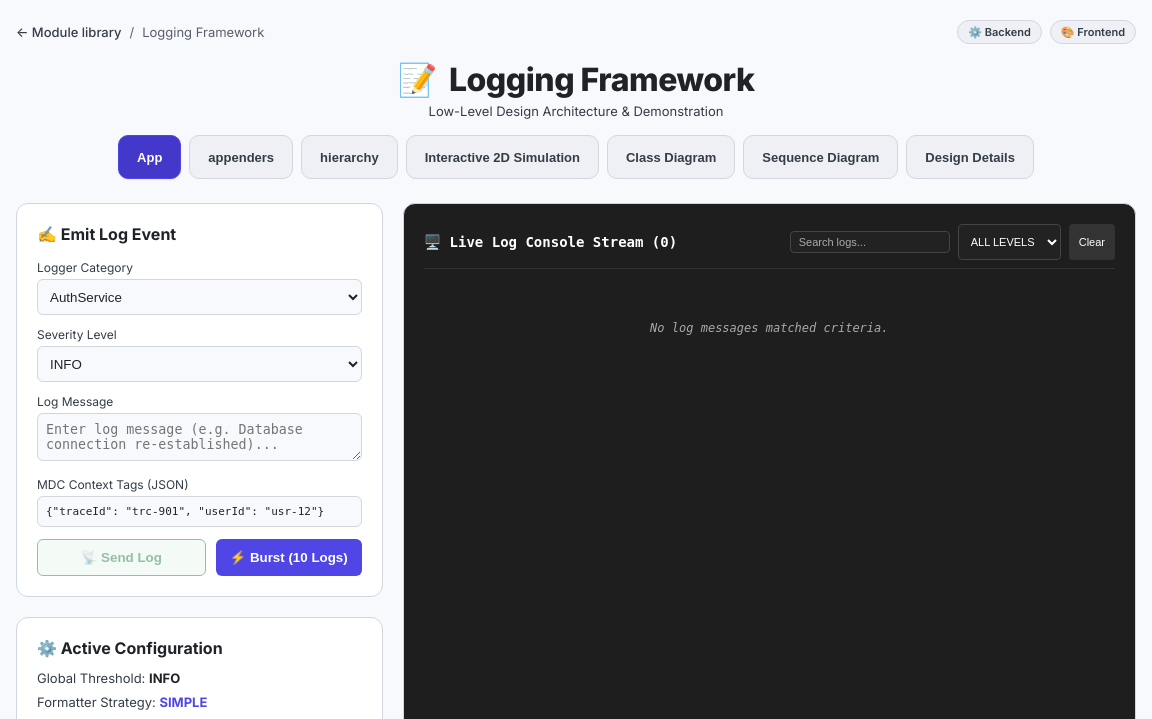
Test: Logging workspace › rejects invalid MDC context [] without sending a log
Replace the text in the text box labelled "Log Message" with "Keep my message" at (199, 437), box [37,413,362,461]
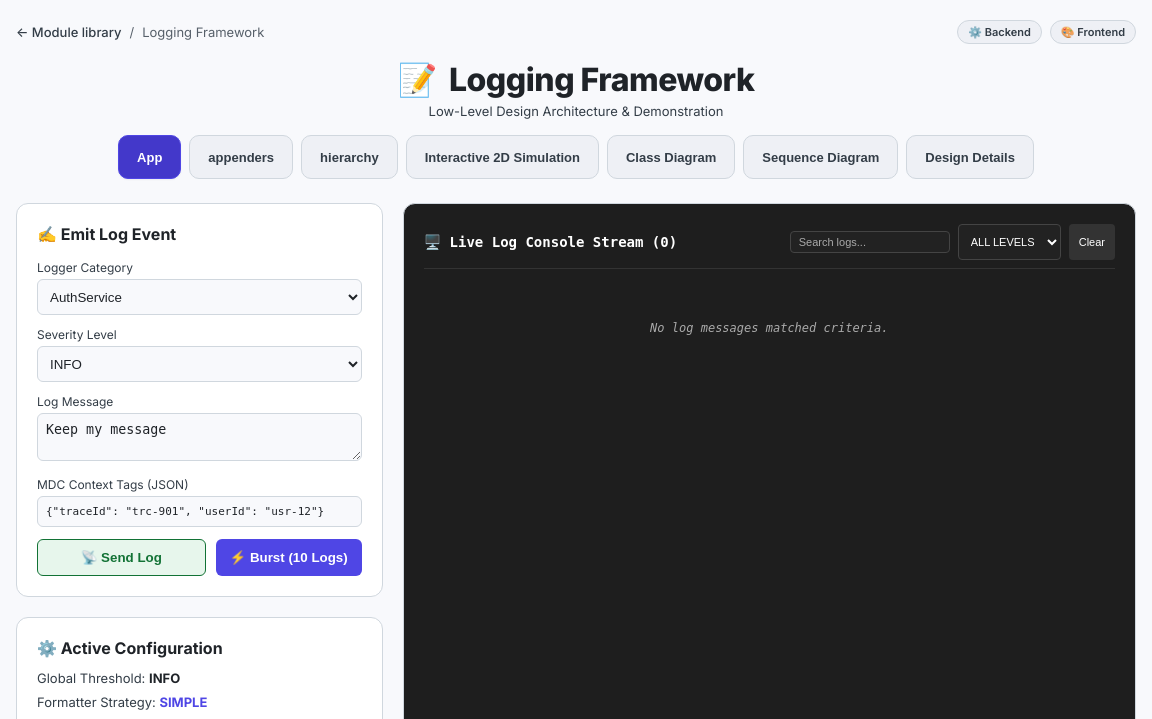
Replace the text in the field labelled "MDC Context Tags (JSON)" with "[]" at (199, 512), box [37,496,362,527]
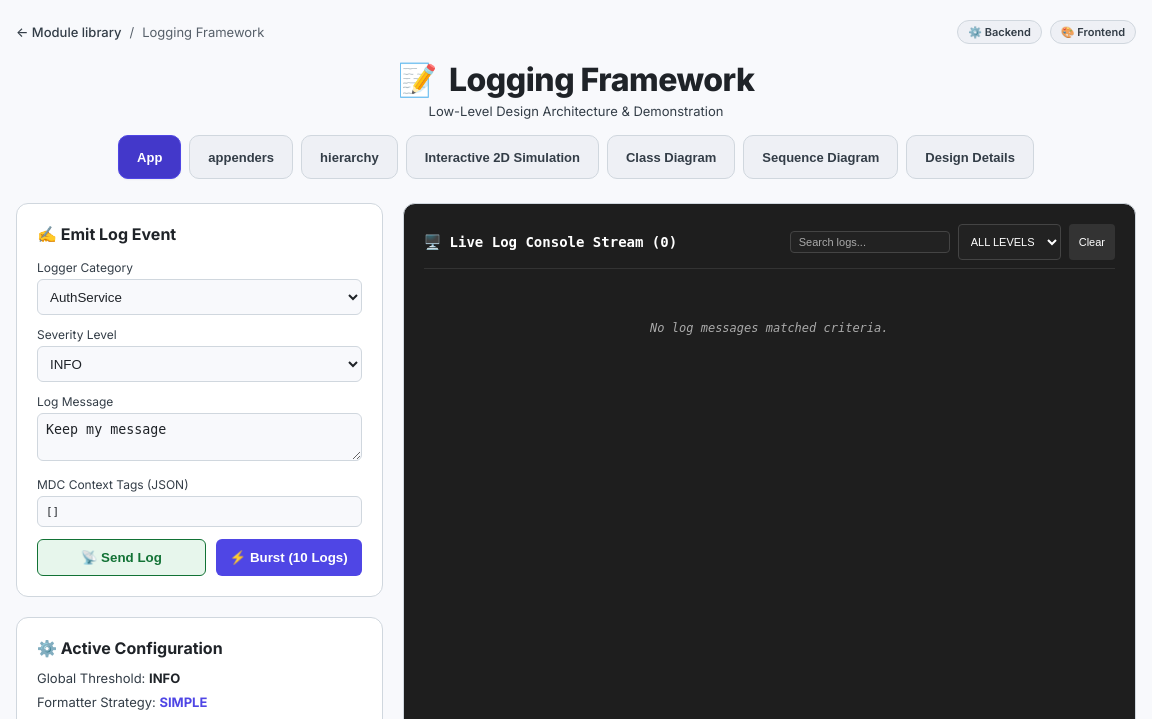
Click the button "📡 Send Log" at (121, 558), box [37,539,206,576]
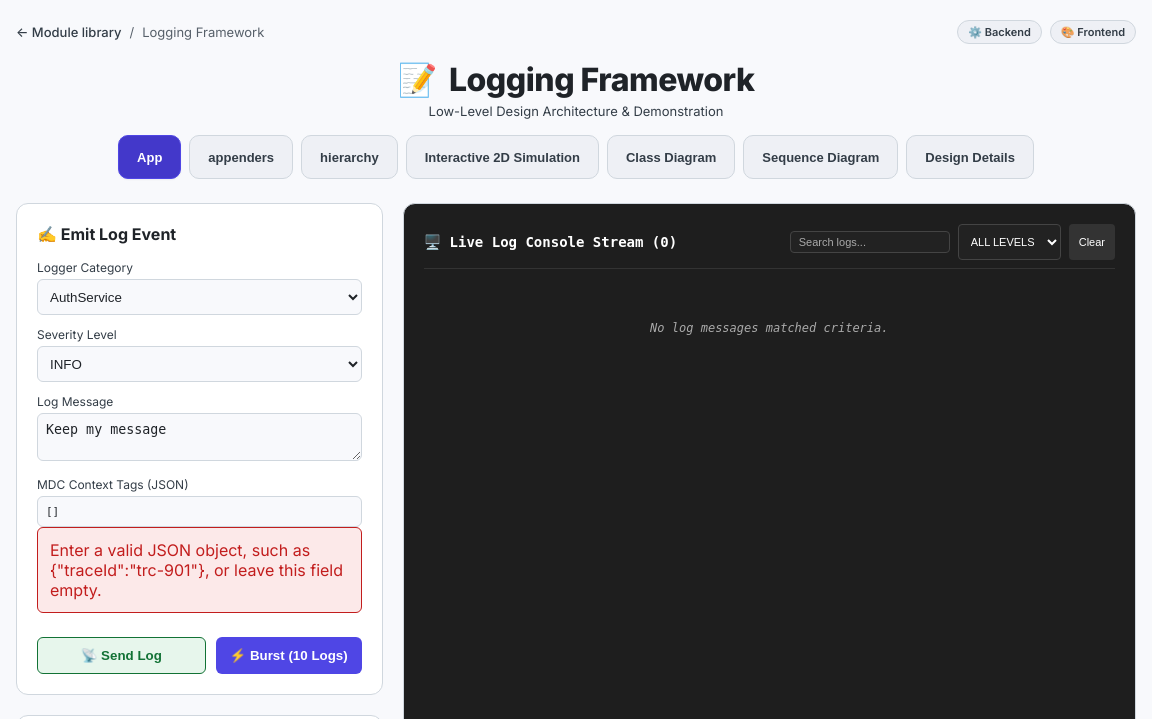
expect the message shows "Enter a valid JSON object": met, box [50,540,343,600]
